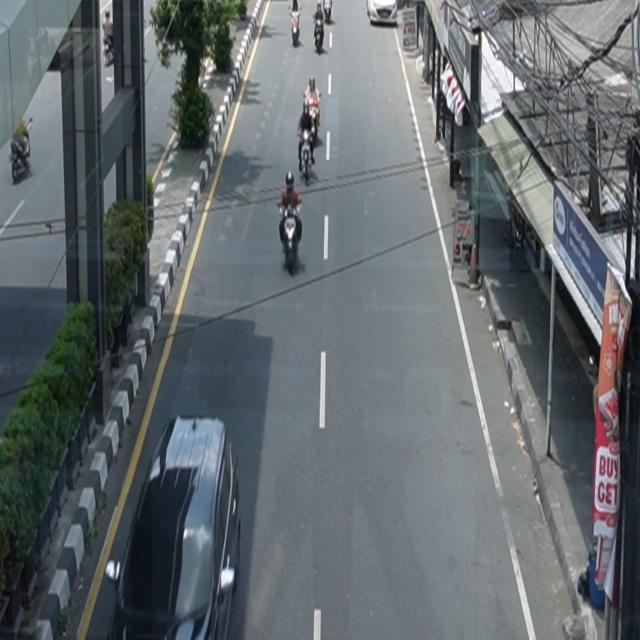car: (106, 415, 242, 640), (367, 1, 399, 26)
